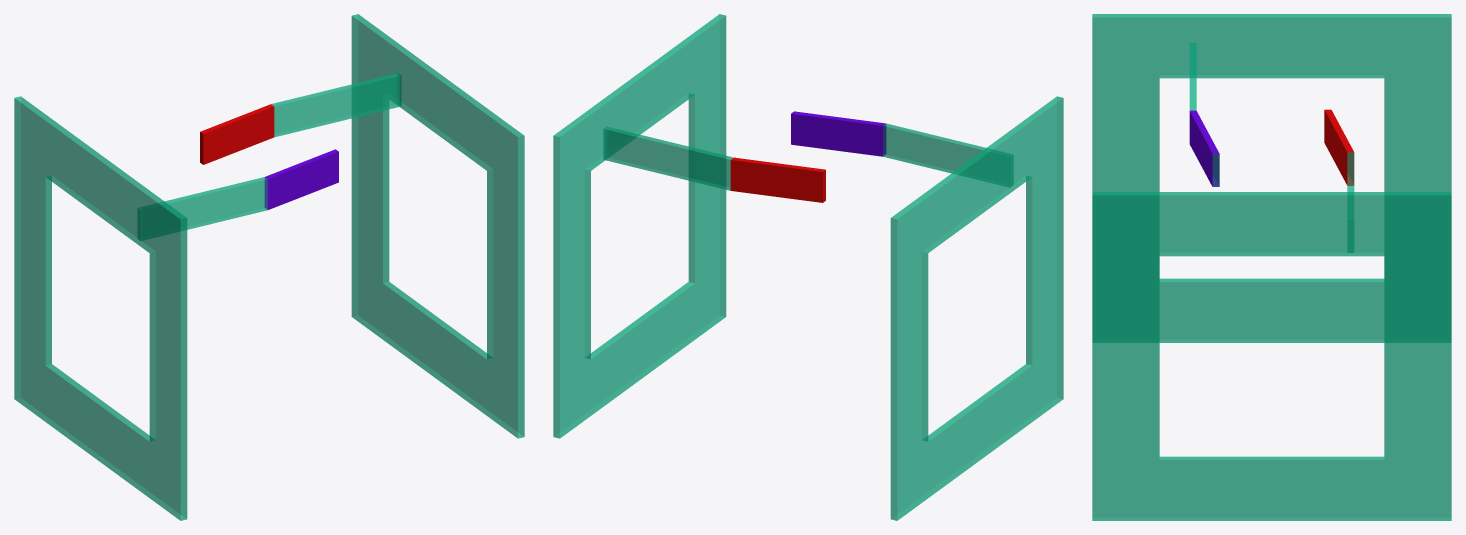
The model's file is ion_accelerator.fbx.
3 views of the same model, side by side, from view 1: azimuth 30°, elevation 25°; view 2: azimuth 150°, elevation 25°; view 3: azimuth 270°, elevation 25° (orthographic). The views are drawn at different scales.
Visible parts, largest first — view 1: pCube3, pCube4, pCube6, pCube5; view 2: pCube3, pCube4, pCube6, pCube5; view 3: pCube4, pCube3, pCube5, pCube6.
Part boxes in pixels (bbox=[...]): pCube3: bbox=[14, 96, 187, 520]; pCube4: bbox=[351, 14, 524, 438]; pCube6: bbox=[200, 73, 401, 164]; pCube5: bbox=[137, 149, 338, 240]; pCube3: bbox=[890, 96, 1063, 520]; pCube4: bbox=[553, 14, 726, 438]; pCube6: bbox=[603, 127, 825, 202]; pCube5: bbox=[791, 111, 1013, 187]; pCube4: bbox=[1092, 192, 1451, 520]; pCube3: bbox=[1092, 14, 1451, 342]; pCube5: bbox=[1189, 43, 1219, 186]; pCube6: bbox=[1324, 109, 1354, 252].
Size of the model in its own units: 0.0816 by 0.0683 by 0.0683.
